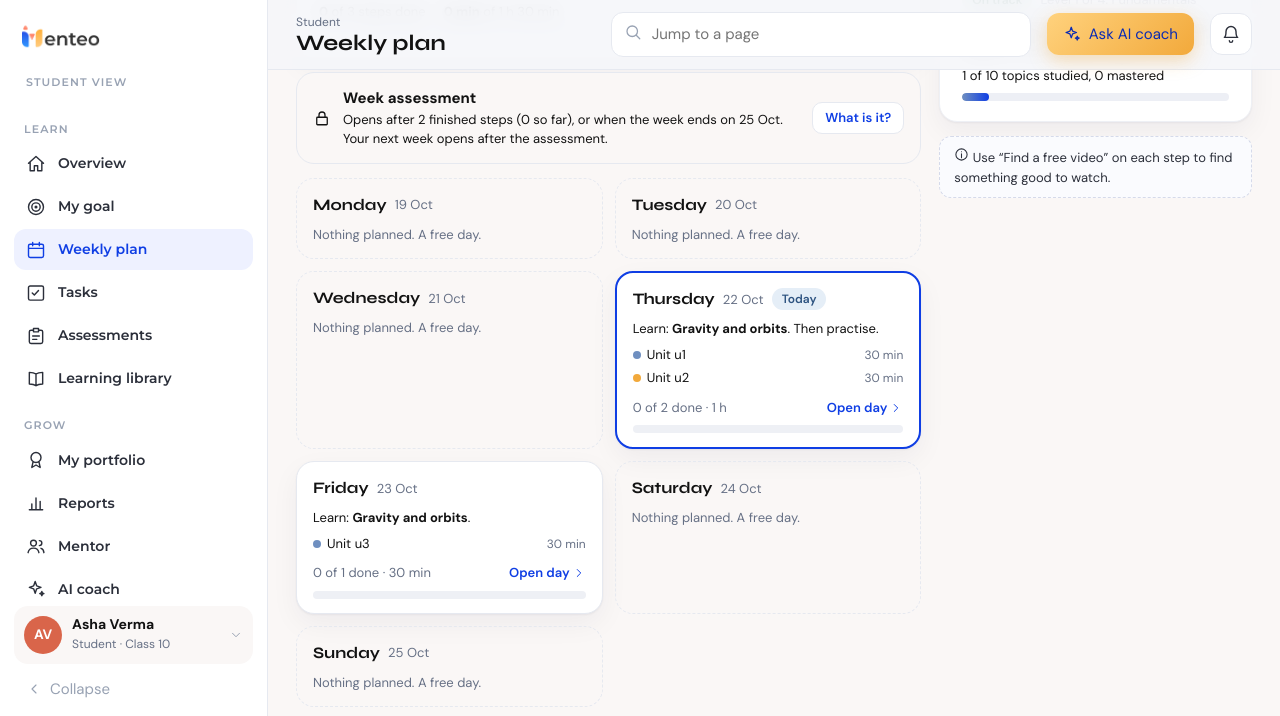
Scenario: the week › shows this week as day cards (today marked, free days shown), and each day opens its own page with the steps in full
(page scrolled)
Check: the text "Today" is shown, box [772,288,826,310]
Check: the text "Unit u1" is shown, box [647,346,686,363]
Click the link with aria-label "Thursday, 22 Oct: 2 steps, 0 done" at x=674, y=299, box [615,271,921,449]
(page scrolled)
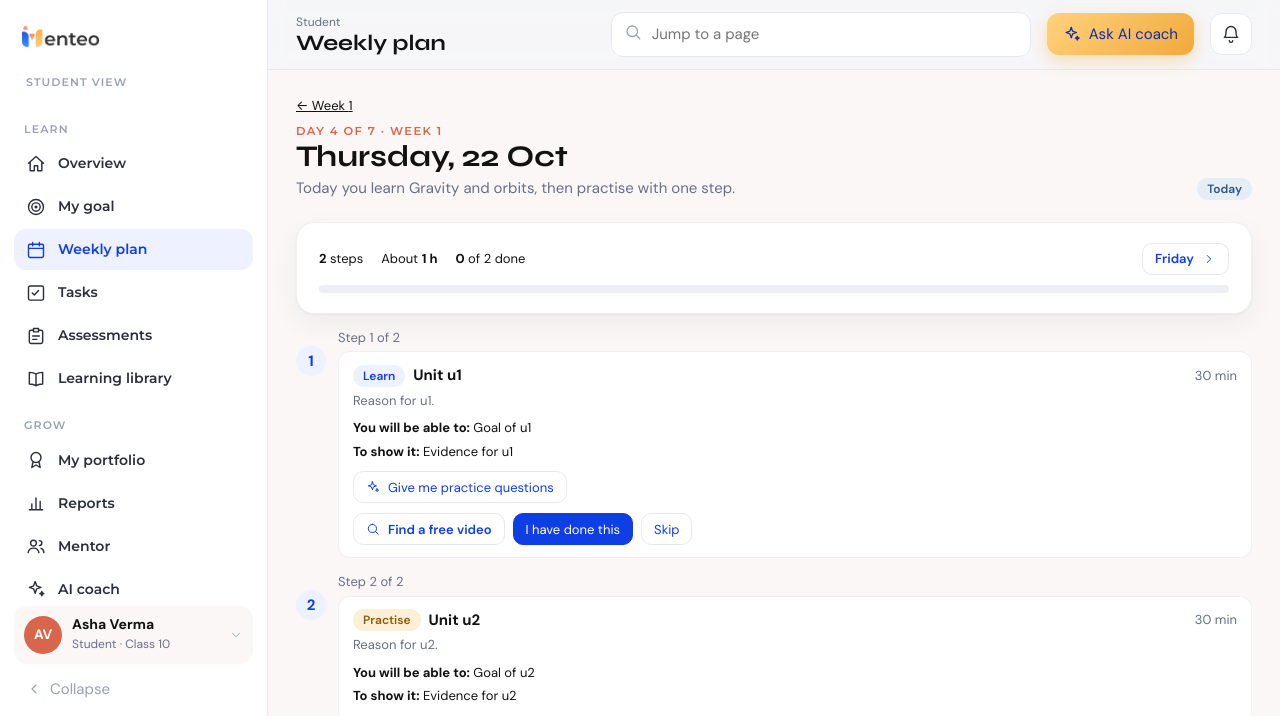
Check: the heading "Thursday, 22 Oct" is shown, box [296,138,568,174]
Check: the text "Today you learn Gravity and orbits" is shown, box [296,178,735,198]
Check: the text "Step 1 of 2" is shown, box [338,329,400,346]
Click the link with aria-label "Next day: Friday" at x=1185, y=259, box [1142,243,1229,275]
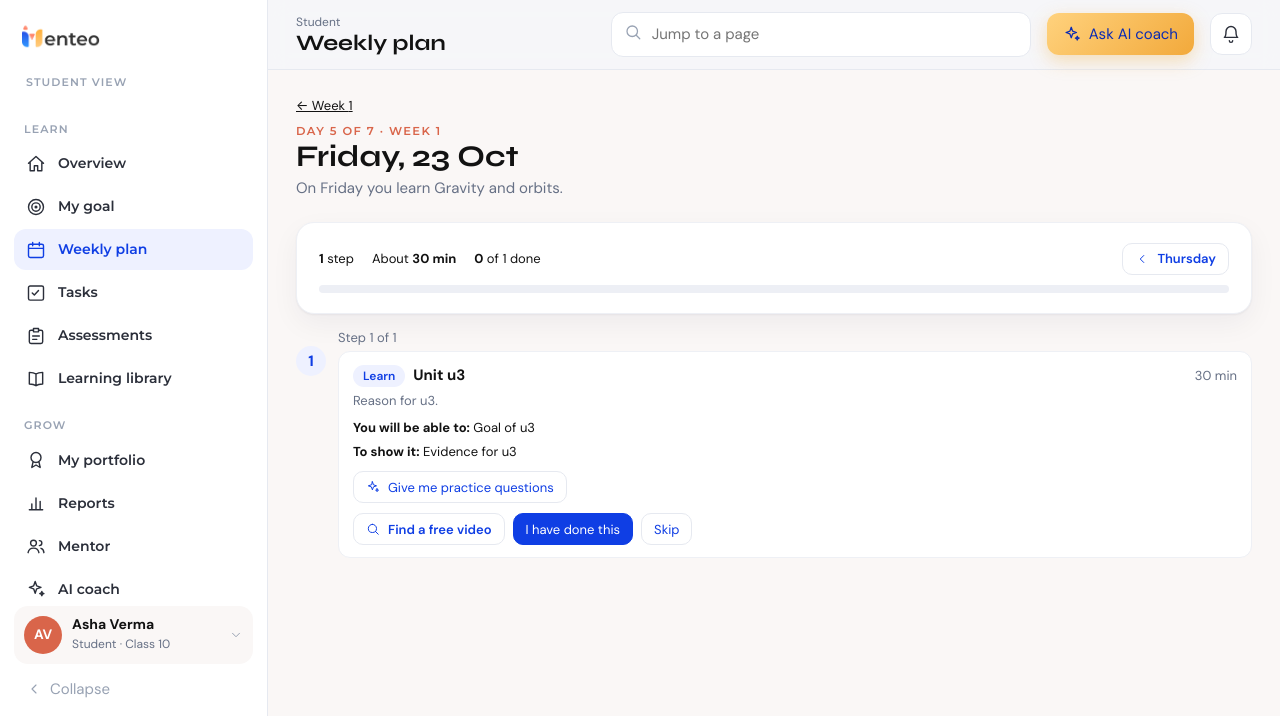
Check: the link with aria-label "Previous day: Thursday" is shown, box [1122,243,1229,275]
Check: the heading "Friday, 23 Oct" is shown, box [296,138,519,174]
Check: the text "On Friday you learn Gravity and orbits." is shown, box [296,178,563,198]
